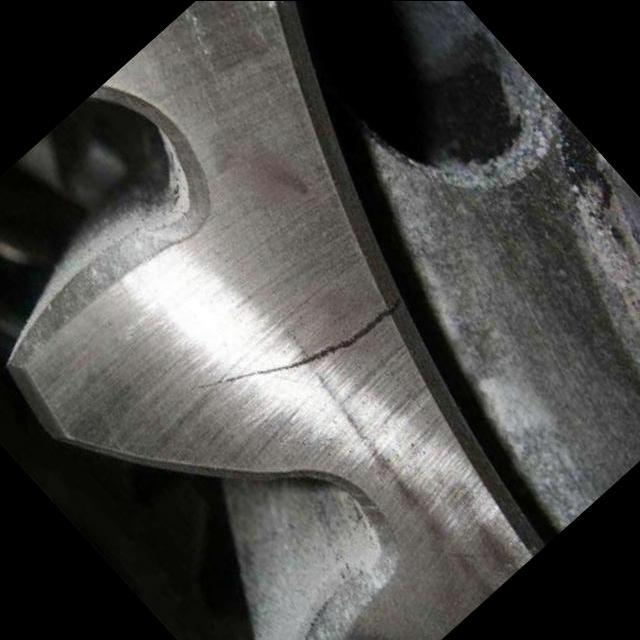defect: (191, 290, 407, 395)
